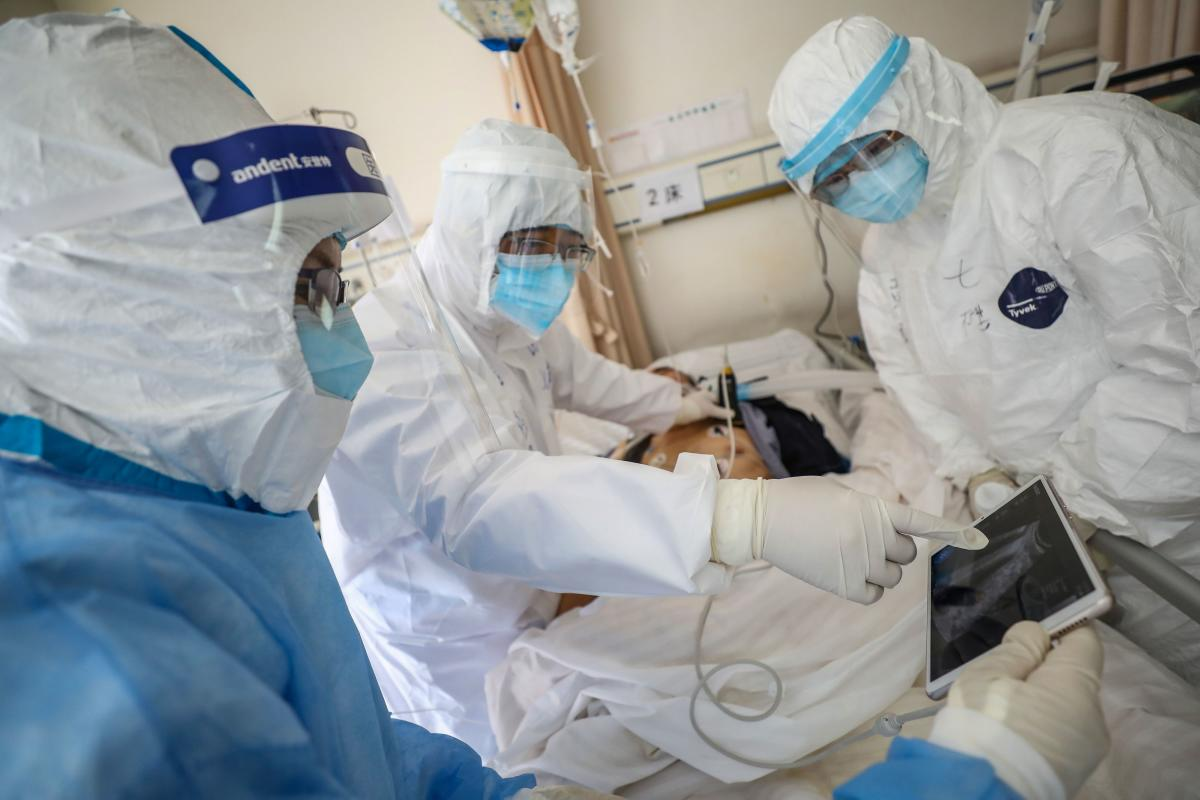Coverall: (1, 17, 371, 797), (774, 4, 1195, 474), (337, 127, 594, 726)
Gloves: (705, 465, 1002, 604), (934, 620, 1129, 795), (668, 389, 747, 432)
with_mask: (804, 123, 936, 228), (493, 215, 577, 342)
